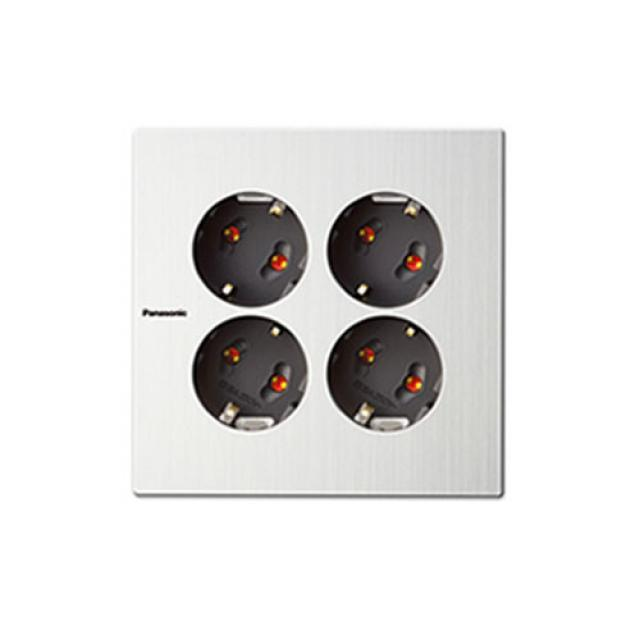typeb: (115, 96, 522, 532)
